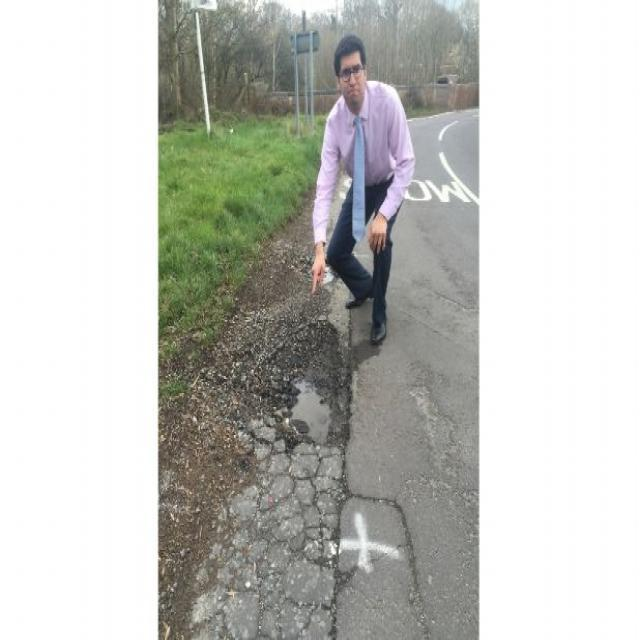pothole: (266, 312, 352, 446)
